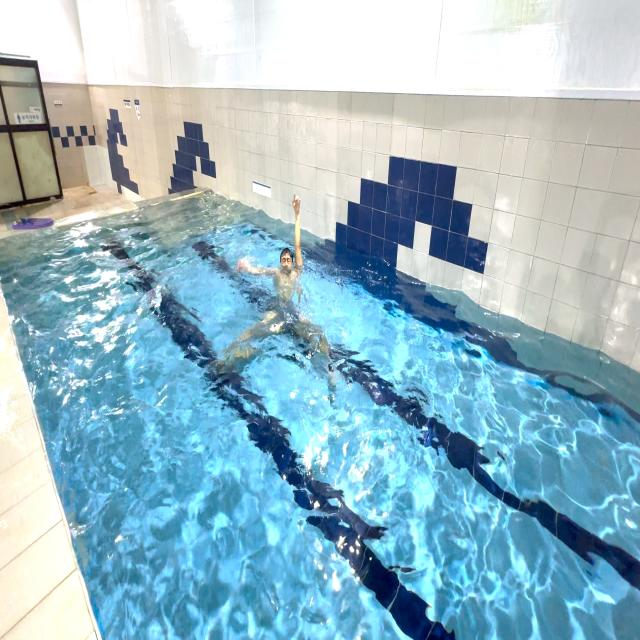Drowning: (232, 182, 334, 358)
